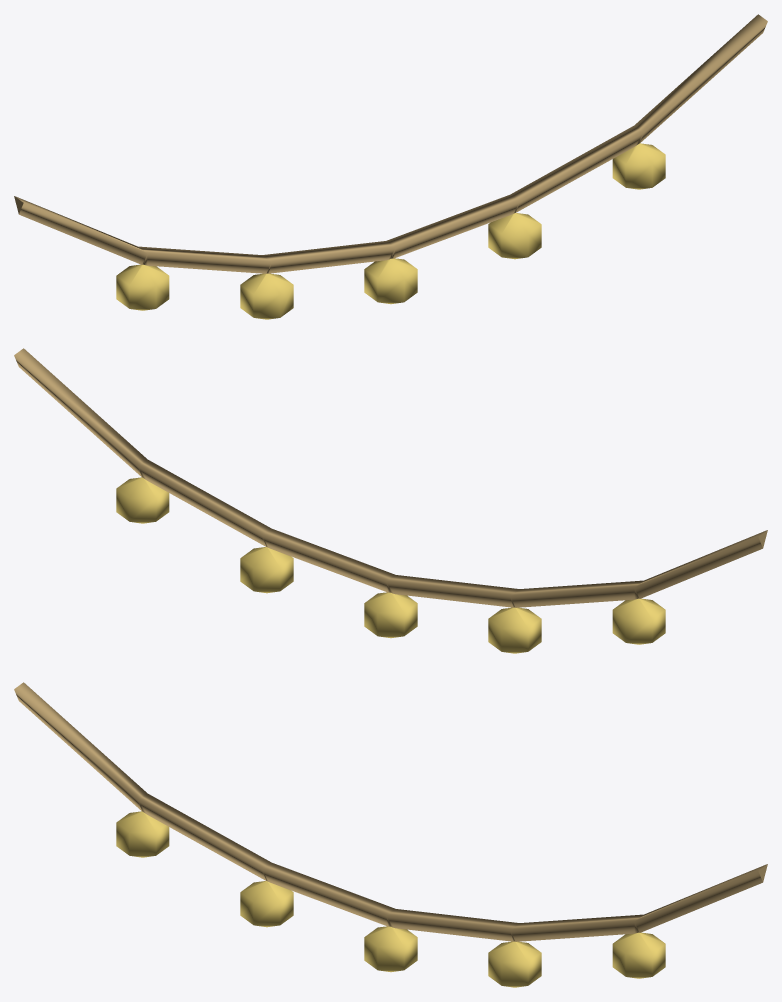
Rendered from Lights_Unwrapped.fbx.
3 renders of one model, top to bottom at view 1: azimuth 30°, elevation 25°; view 2: azimuth 150°, elevation 25°; view 3: azimuth 330°, elevation 25°, orthographic.
Visible parts, largest first — view 1: fairylights; view 2: fairylights; view 3: fairylights.
Boxes of the visible parts, left/top/right/bottom form: fairylights: left=14, top=14, right=767, bottom=319; fairylights: left=14, top=348, right=767, bottom=653; fairylights: left=14, top=682, right=767, bottom=987.
Bounding box in the file's own units: 157 × 39.57 × 9.76.
